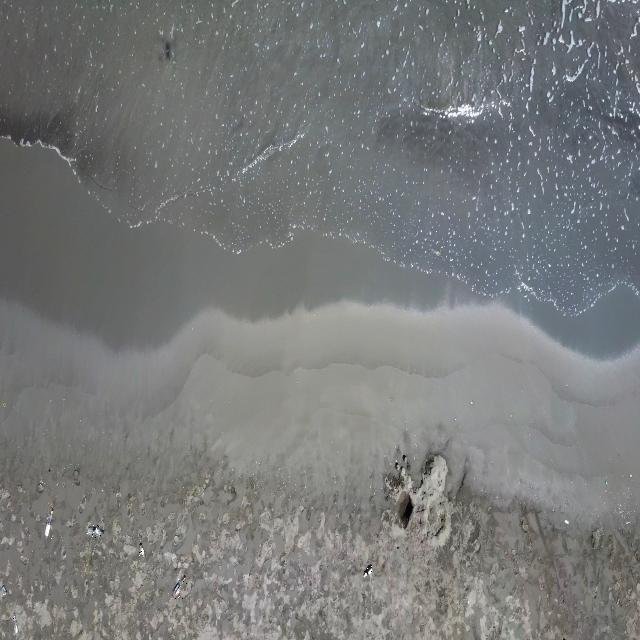glass: (172, 574, 187, 600), (44, 508, 54, 540), (87, 525, 104, 538), (363, 563, 374, 580), (13, 614, 19, 636), (139, 542, 146, 559), (1, 585, 7, 597)
